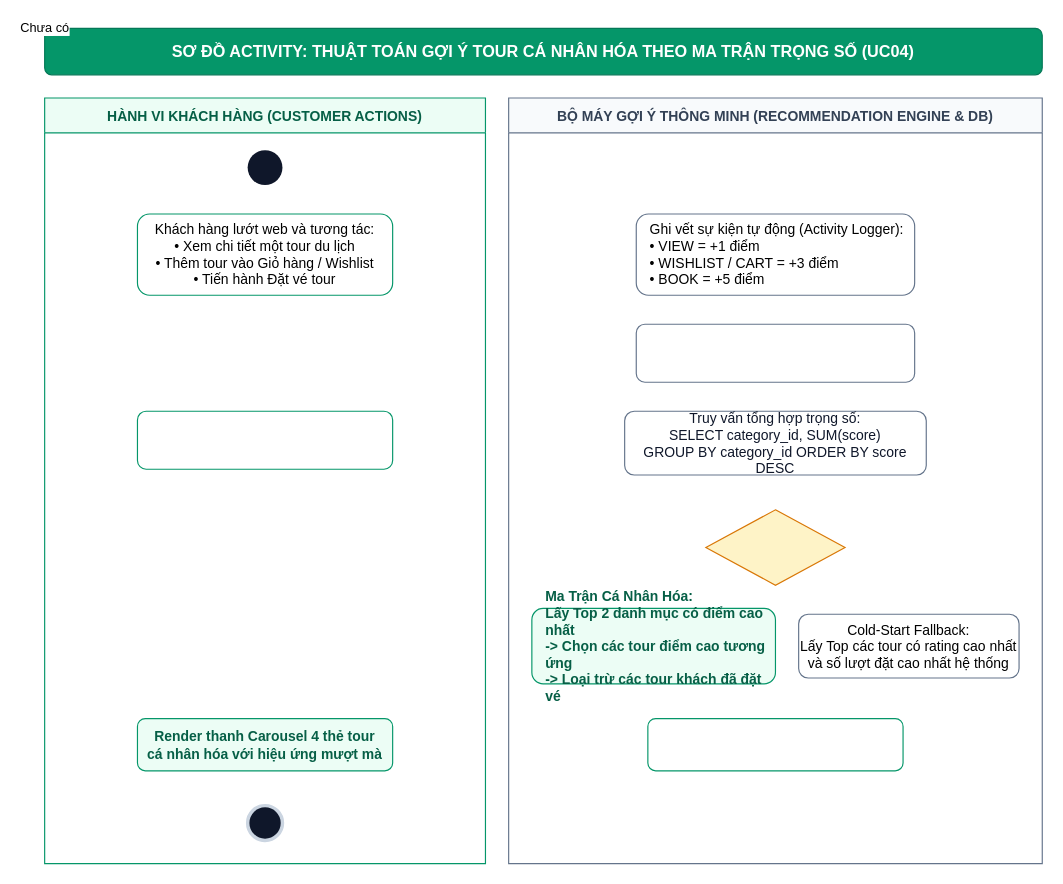
This 1063x884 diagram has some shape labels left out. Here are the shapes that lost their labels. From the top down, the centre of each, then its label:
the point at 775,352: Lưu vào bảng user_activity_history: (user_id, session_id, tour_id, score)
the point at 264,439: Người dùng mở Trang chủ hoặc cuộn xuống mục 'Gợi ý dành cho bạn'
the point at 775,547: Người dùng đã có lịch sử?
the point at 775,744: Đóng gói Top 4 TourDto kèm thẻ huy hiệu 'Dành riêng cho bạn'
